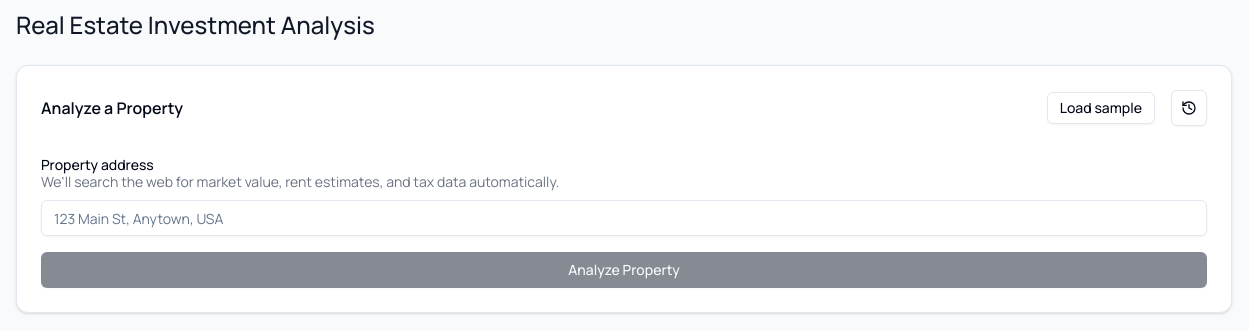
Test case: Real Estate Investment Analysis page › disables submit until the field is filled
Expected: the button "Analyze Property" is disabled, [41, 252, 1207, 288]
Type "742 Evergreen Terrace, Springfield, IL 62704" into the field labelled "Property address" at (624, 218), box [41, 200, 1207, 236]
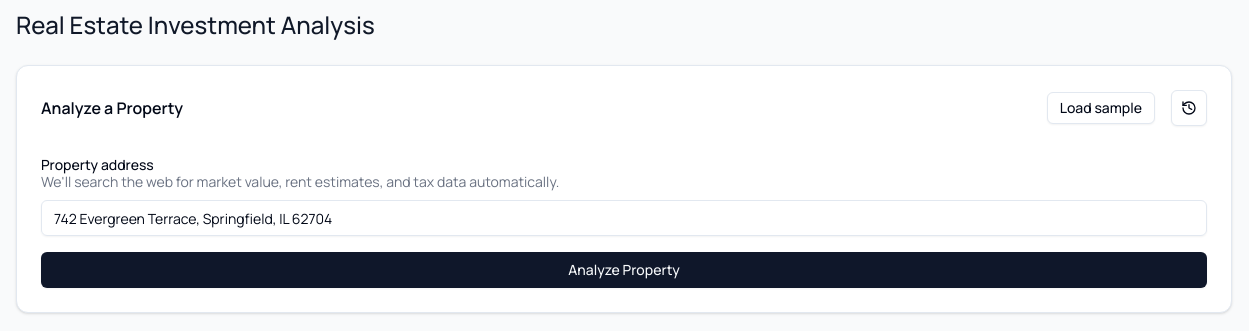
Now the button "Analyze Property" is enabled, box [41, 252, 1207, 288]
